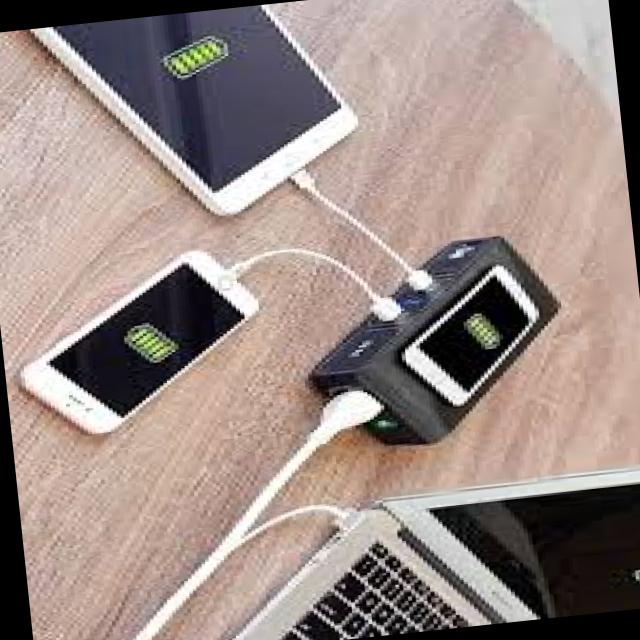portable-charger: (302, 227, 577, 458)
